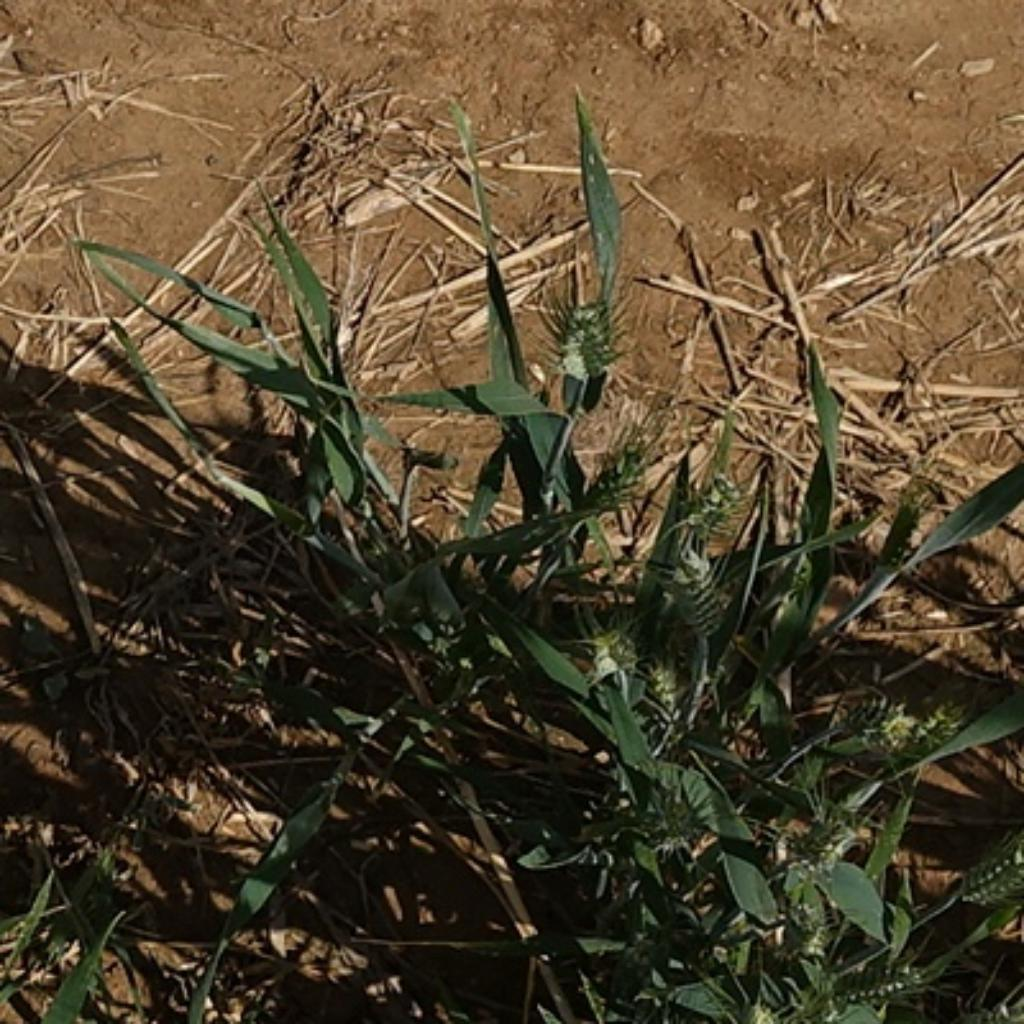0-0: (765, 798, 860, 901), (550, 289, 622, 381), (815, 959, 931, 1016), (667, 537, 729, 638), (880, 476, 926, 609), (643, 780, 721, 858), (582, 436, 661, 513), (681, 461, 758, 529), (961, 833, 1024, 911), (839, 693, 916, 747), (583, 627, 640, 686), (911, 698, 965, 752)
